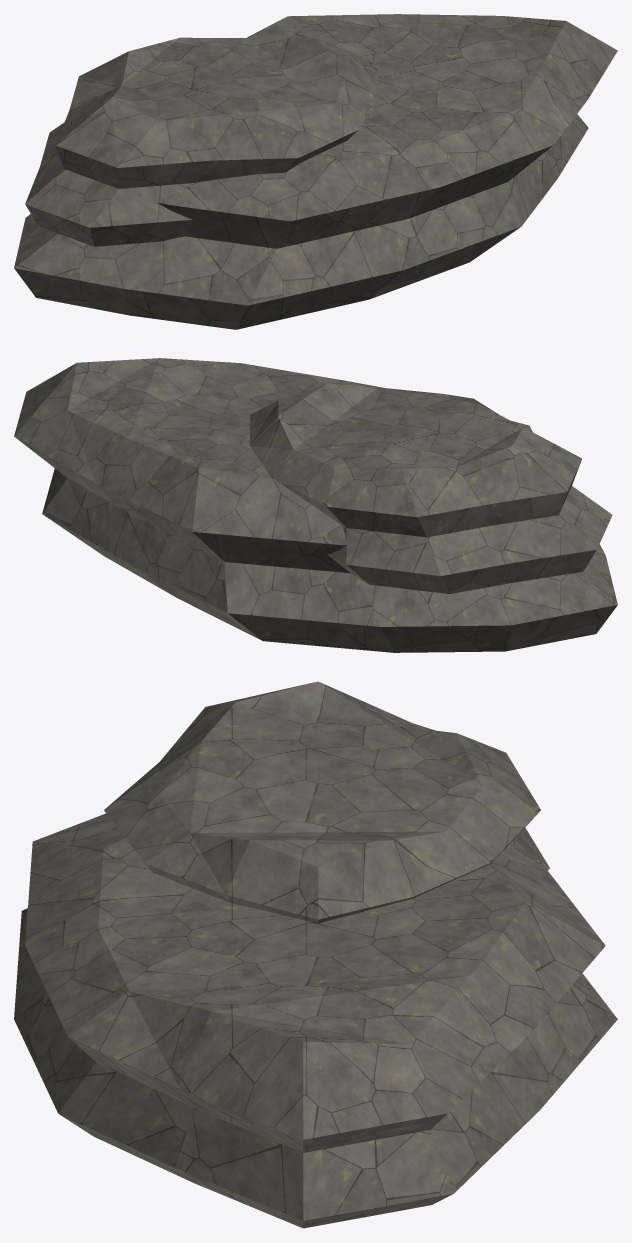
File: RockShelf.fbx
3 views of the same model, one above another, from view 1: azimuth 30°, elevation 25°; view 2: azimuth 150°, elevation 25°; view 3: azimuth 270°, elevation 25° (orthographic). The views are drawn at different scales.
Visible parts, largest first — view 1: RockShelf; view 2: RockShelf; view 3: RockShelf.
Part boxes in pixels (left/top/right/bottom): RockShelf: left=14, top=14, right=617, bottom=329; RockShelf: left=14, top=358, right=617, bottom=652; RockShelf: left=14, top=681, right=617, bottom=1228.
Size of the model in its own units: 6.75 by 1.88 by 4.02.
